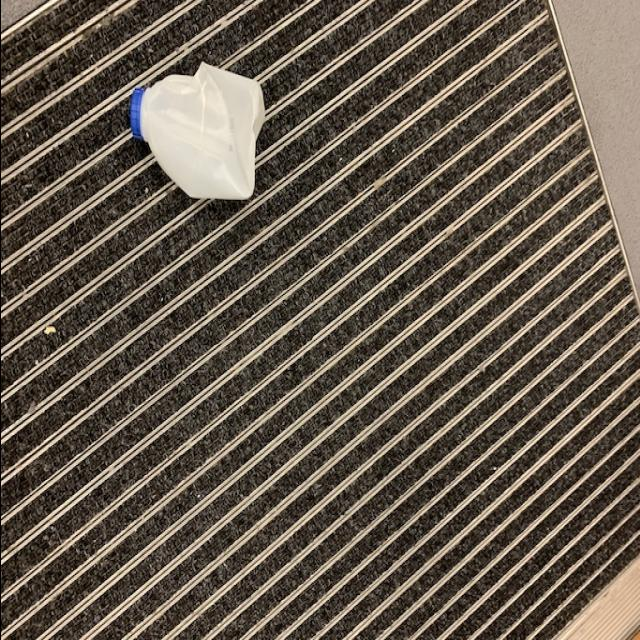HDPEM: (125, 63, 265, 198)
